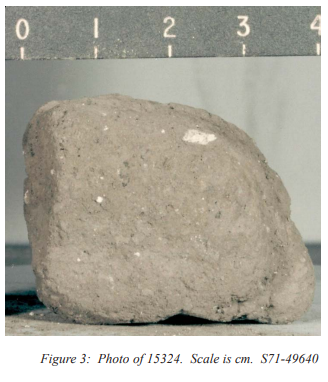Breccia: (15, 74, 300, 336)
